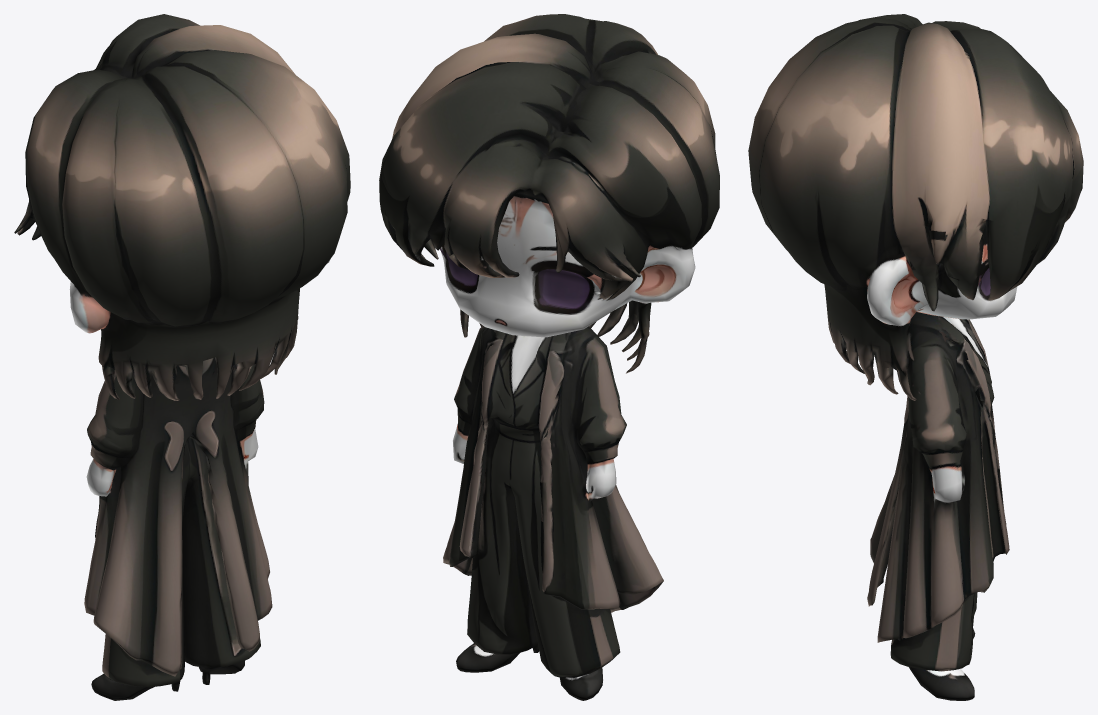
Rendered from SM_A_Npc_Director.glb.
3 views of the same model, side by side, from view 1: azimuth 30°, elevation 25°; view 2: azimuth 150°, elevation 25°; view 3: azimuth 270°, elevation 25° (orthographic). The views are drawn at different scales.
Parts seen in each view (by area): view 1: SM_A_Npc_Director; view 2: SM_A_Npc_Director; view 3: SM_A_Npc_Director.
Boxes of the visible parts, x1,y1,x2,y2 form: SM_A_Npc_Director: [14, 14, 350, 700]; SM_A_Npc_Director: [379, 14, 719, 700]; SM_A_Npc_Director: [748, 14, 1083, 700].
Bounding box in the file's own units: 0.6204 × 1.3 × 0.6176.
Materials: 1 (1 with a texture image).
